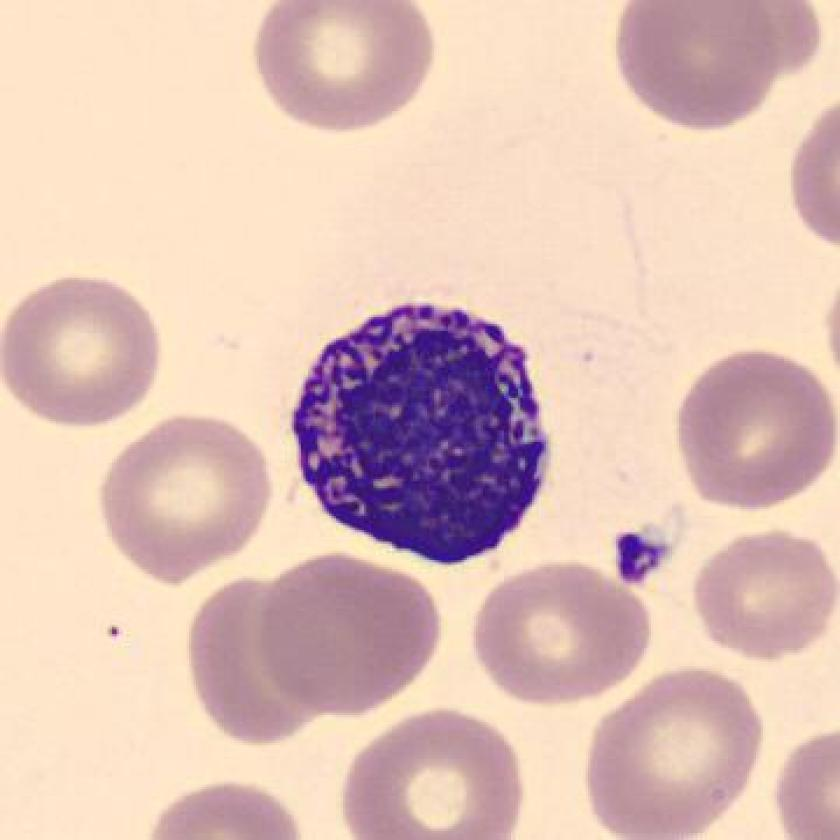basophil: (279, 293, 566, 570)
